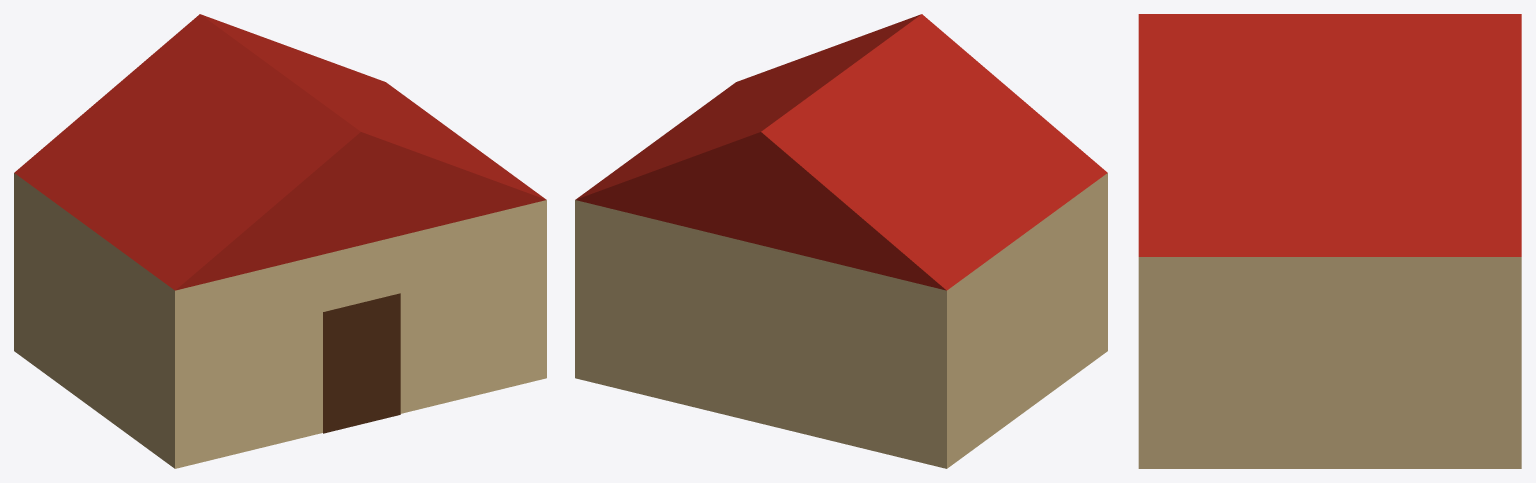
The model's file is house.obj.
The picture shows the model from 3 angles, left to right: view 1: azimuth 30°, elevation 25°; view 2: azimuth 150°, elevation 25°; view 3: azimuth 270°, elevation 25°; orthographic projection. The views are drawn at different scales.
Parts seen in each view (by area): view 1: Walls, Roof, Door; view 2: Walls, Roof; view 3: Roof, Walls.
Part boxes in pixels (<box>): Walls: <box>14,173,546,468</box>; Roof: <box>14,14,546,290</box>; Door: <box>323,293,400,433</box>; Walls: <box>575,173,1107,468</box>; Roof: <box>575,14,1107,290</box>; Roof: <box>1138,14,1521,256</box>; Walls: <box>1138,257,1521,468</box>.
Size of the model in its own units: 2.4 by 1.8 by 1.81.
